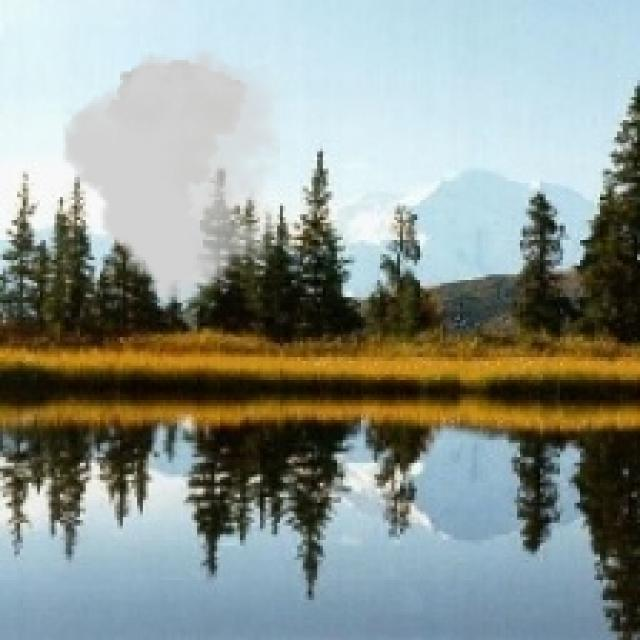Smoke: (63, 48, 280, 303)
